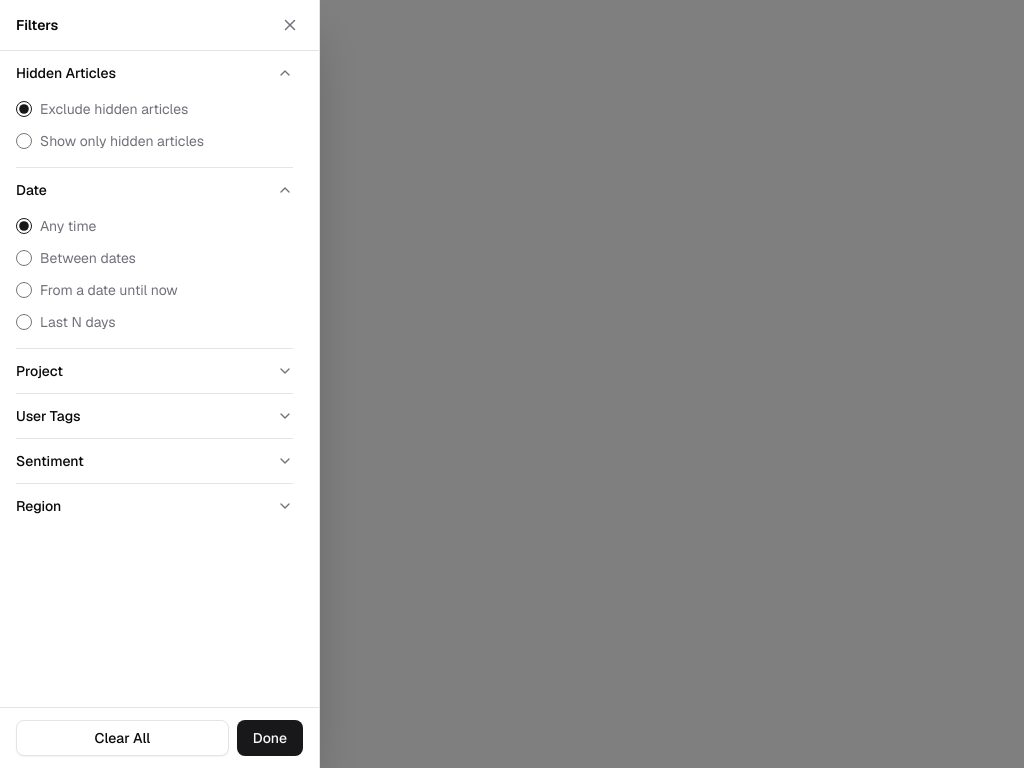
FilterPanel › shows live facet counts for User Tags, not the org-wide articleCount
Click the button "User Tags" at (48, 416), box [16, 406, 293, 426]
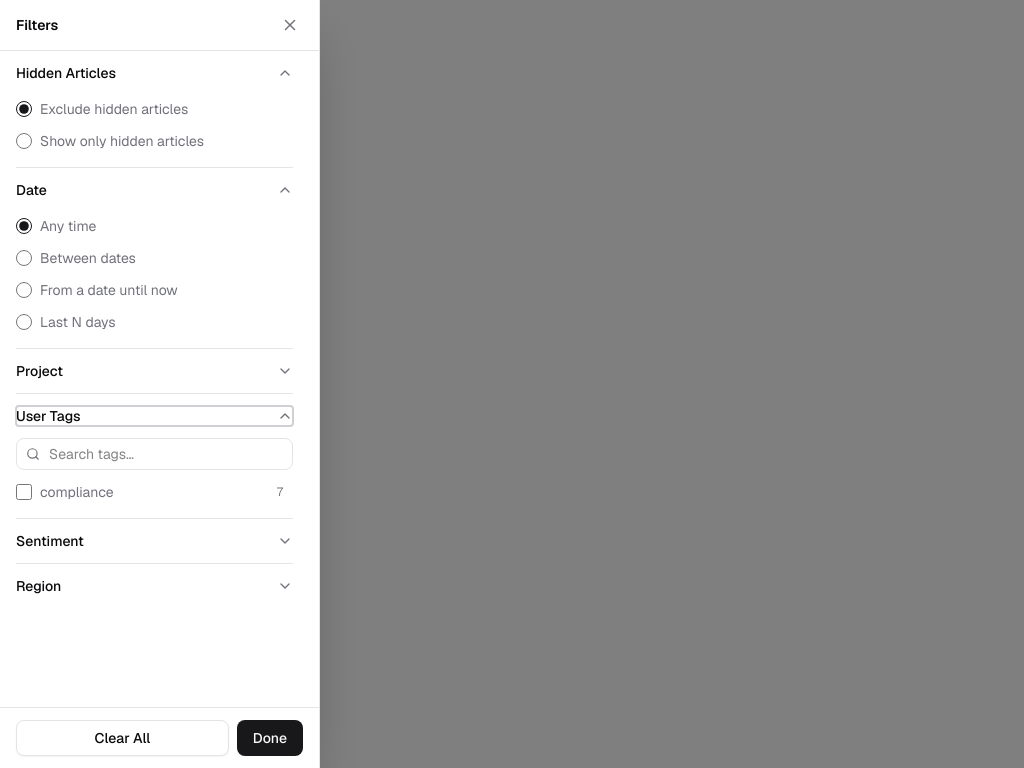
Check: the label labelled "compliance 7" does not show "3", box [16, 478, 283, 506]
Check: the label labelled "compliance 7" is shown, box [16, 478, 283, 506]
